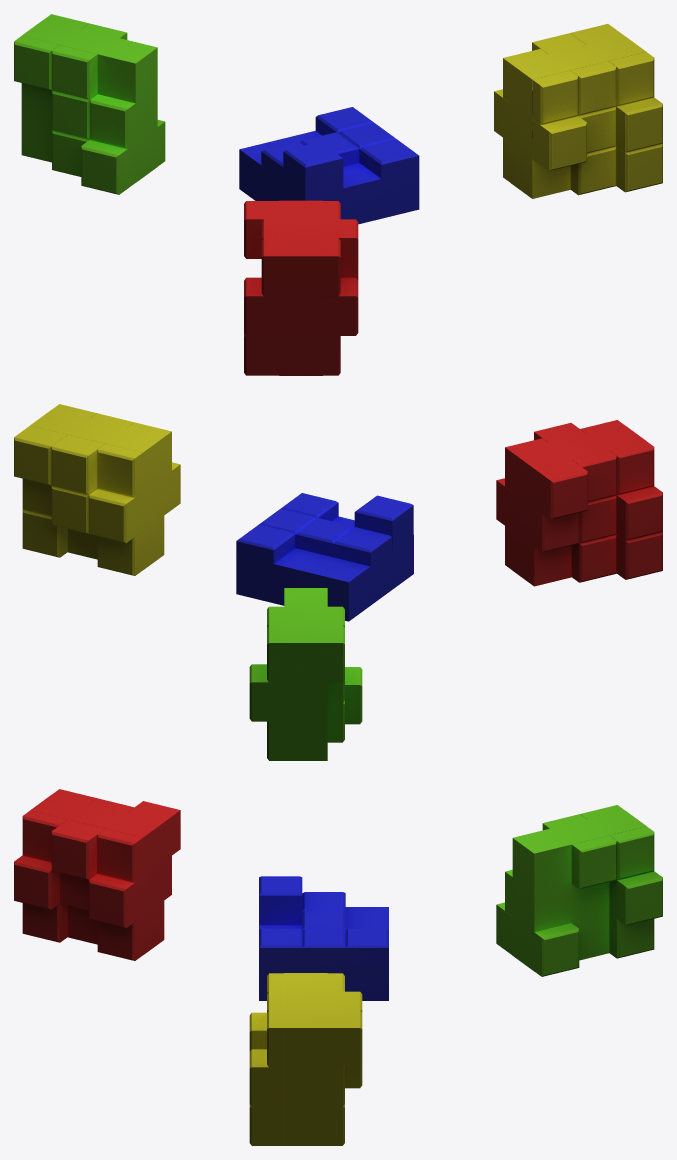
The model's file is stage_1_lightmaps.obj.
The picture shows the model from 3 angles, top to bottom: view 1: azimuth 30°, elevation 25°; view 2: azimuth 150°, elevation 25°; view 3: azimuth 270°, elevation 25°; orthographic projection.
Visible parts, largest first — view 1: stage_1_stage_1.002; view 2: stage_1_stage_1.002; view 3: stage_1_stage_1.002.
Part boxes in pixels (x1,y1,x2,y2): stage_1_stage_1.002: (14, 14, 662, 375); stage_1_stage_1.002: (14, 404, 662, 760); stage_1_stage_1.002: (14, 789, 662, 1145).
Size of the model in its own units: 67.1 by 15 by 74.87.
Materials: 1 (1 with a texture image).
